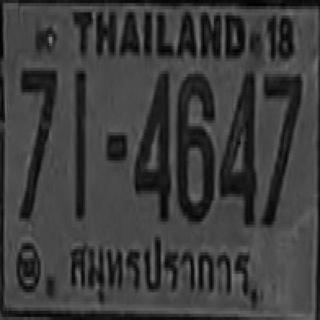N01: (74, 69, 85, 217)
N04: (219, 68, 255, 221), (134, 68, 170, 218)
N06: (176, 71, 213, 218)
N07: (261, 71, 300, 225), (18, 65, 56, 218)
P57: (66, 228, 255, 316)
